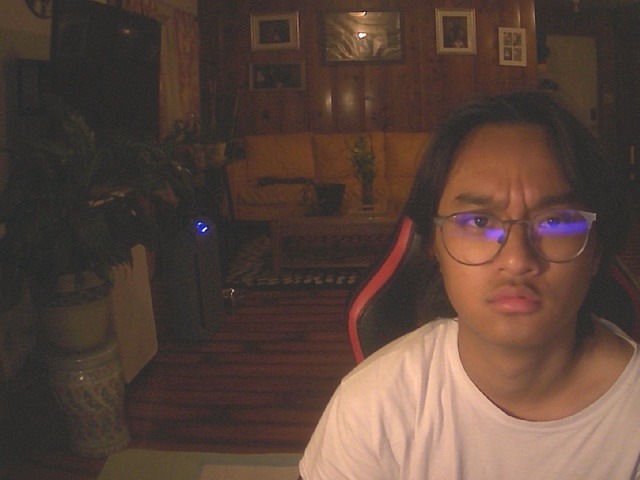anger: (407, 90, 631, 349)
